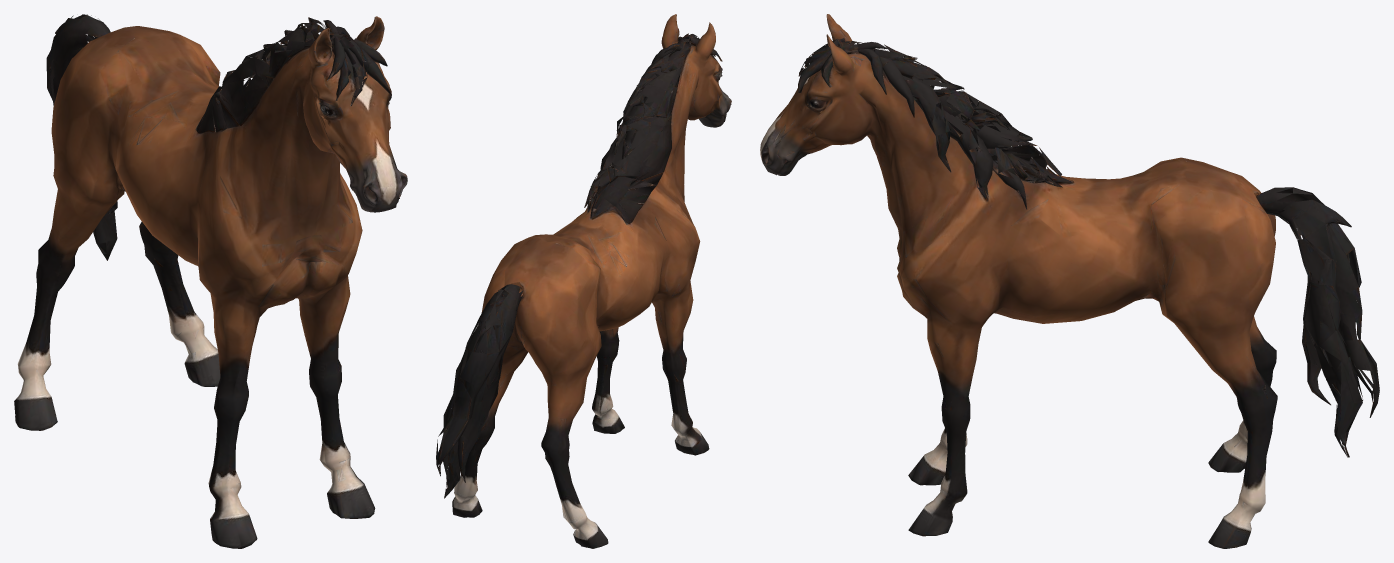
The model's file is horse.glb.
3 renders of one model, left to right at view 1: azimuth 30°, elevation 25°; view 2: azimuth 150°, elevation 25°; view 3: azimuth 270°, elevation 25°, orthographic. The views are drawn at different scales.
Size of the model in its own units: 0.3335 by 0.811 by 0.9507.
1 material, 1 textured.
